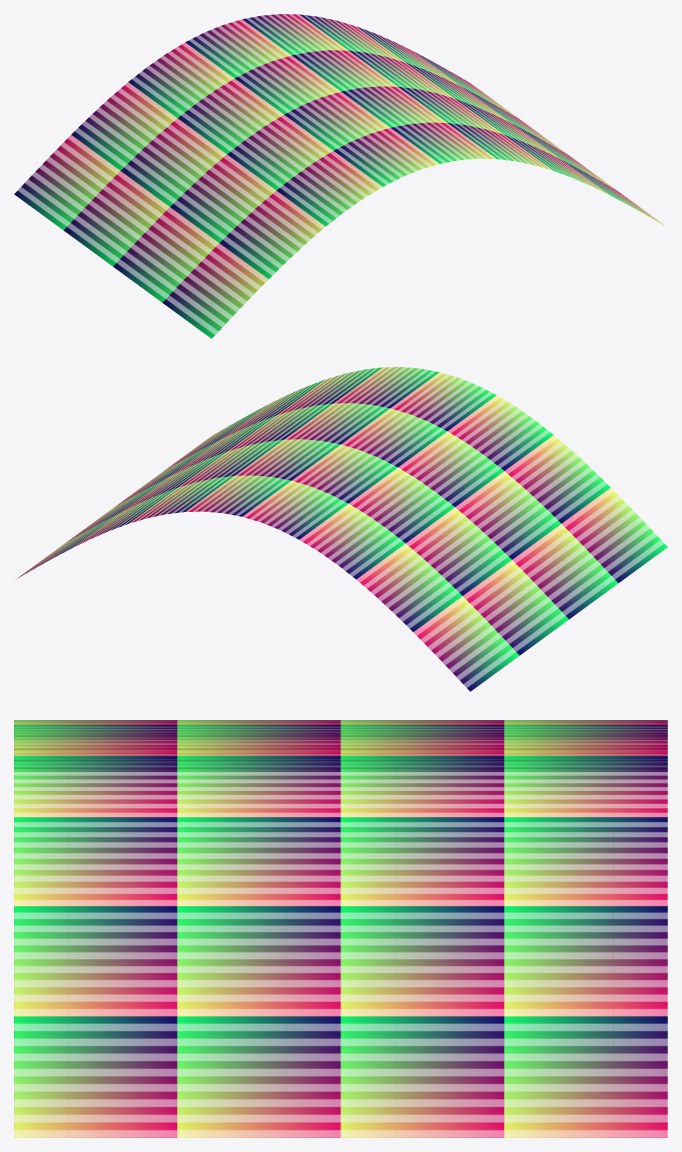
The model's file is textured-roof.glb.
The picture shows the model from 3 angles, top to bottom: view 1: azimuth 30°, elevation 25°; view 2: azimuth 150°, elevation 25°; view 3: azimuth 270°, elevation 25°; orthographic projection. The views are drawn at different scales.
Bounding box in the file's own units: 8 × 2 × 6.
1 material, 1 textured.
